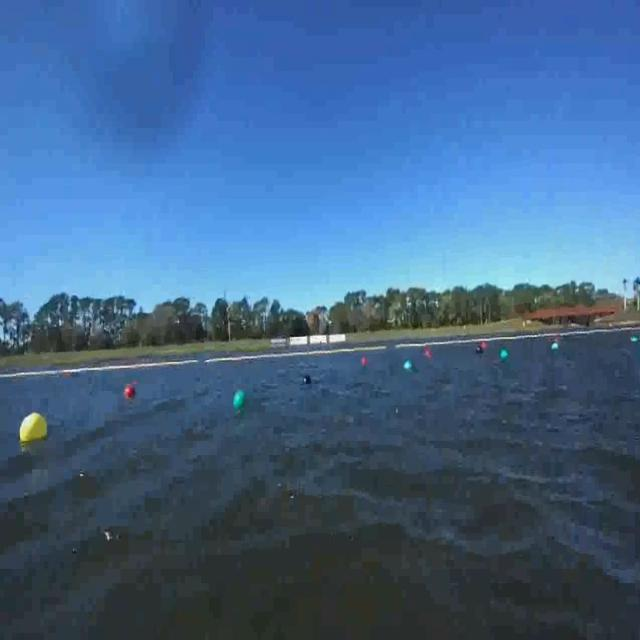green-buoy: (235, 389, 247, 408), (552, 343, 561, 353), (631, 338, 640, 344)
red-buoy: (127, 385, 136, 399)
yellow-buoy: (18, 414, 46, 444)
